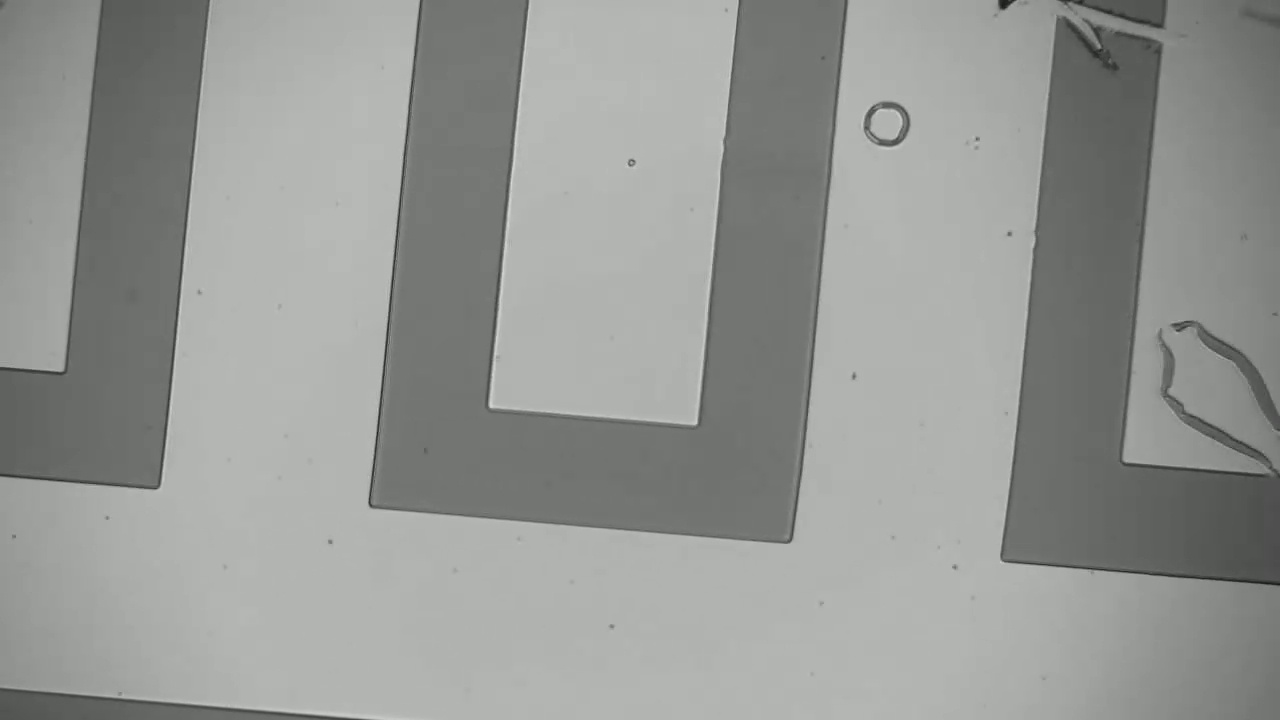Short_circuit: (1035, 1, 1192, 52)
